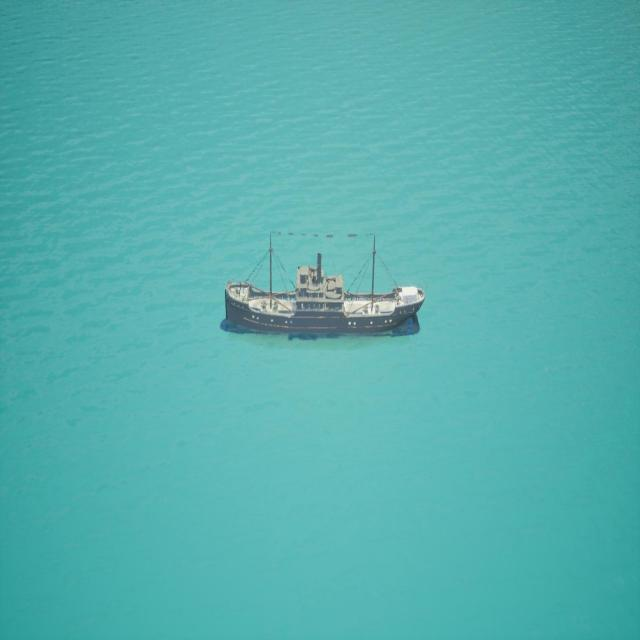fishing ship: (225, 235, 423, 338)
